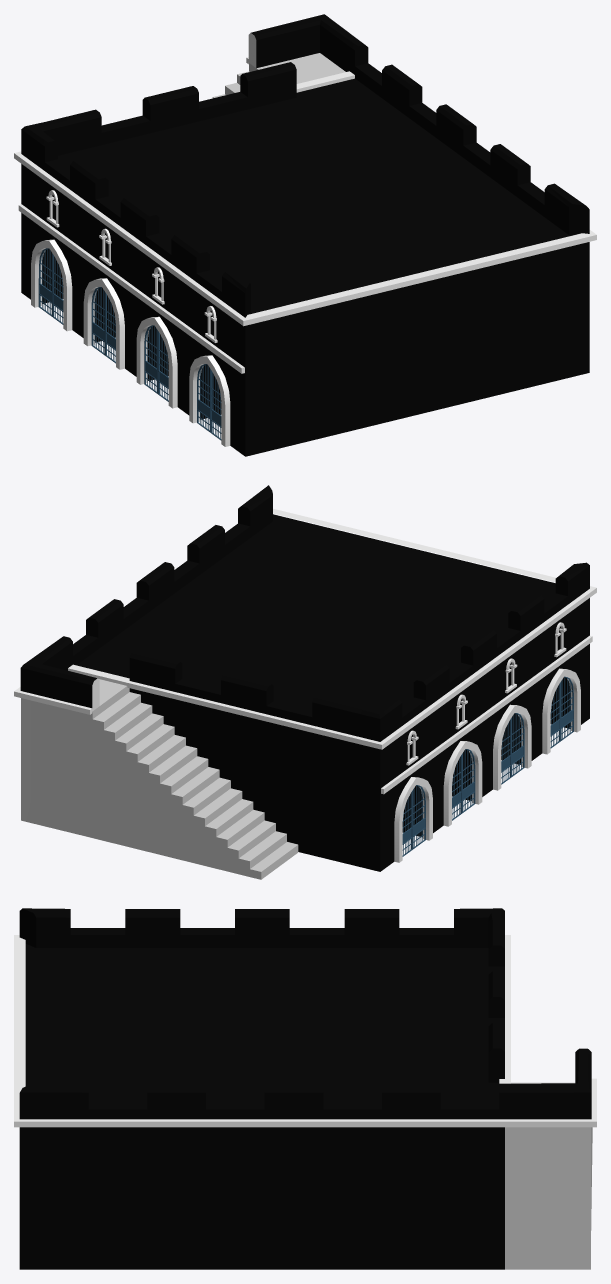
Rendered from building_base_a 1.FBX.
3 views of the same model, one above another, from view 1: azimuth 30°, elevation 25°; view 2: azimuth 150°, elevation 25°; view 3: azimuth 270°, elevation 25° (orthographic). The views are drawn at different scales.
Parts seen in each view (by area): view 1: building_base_a; view 2: building_base_a; view 3: building_base_a.
Boxes of the visible parts, left/top/right/bottom form: building_base_a: left=14, top=14, right=596, bottom=456; building_base_a: left=14, top=485, right=596, bottom=879; building_base_a: left=14, top=908, right=596, bottom=1269.
Bounding box in the file's own units: 2736 × 1232 × 3604.
